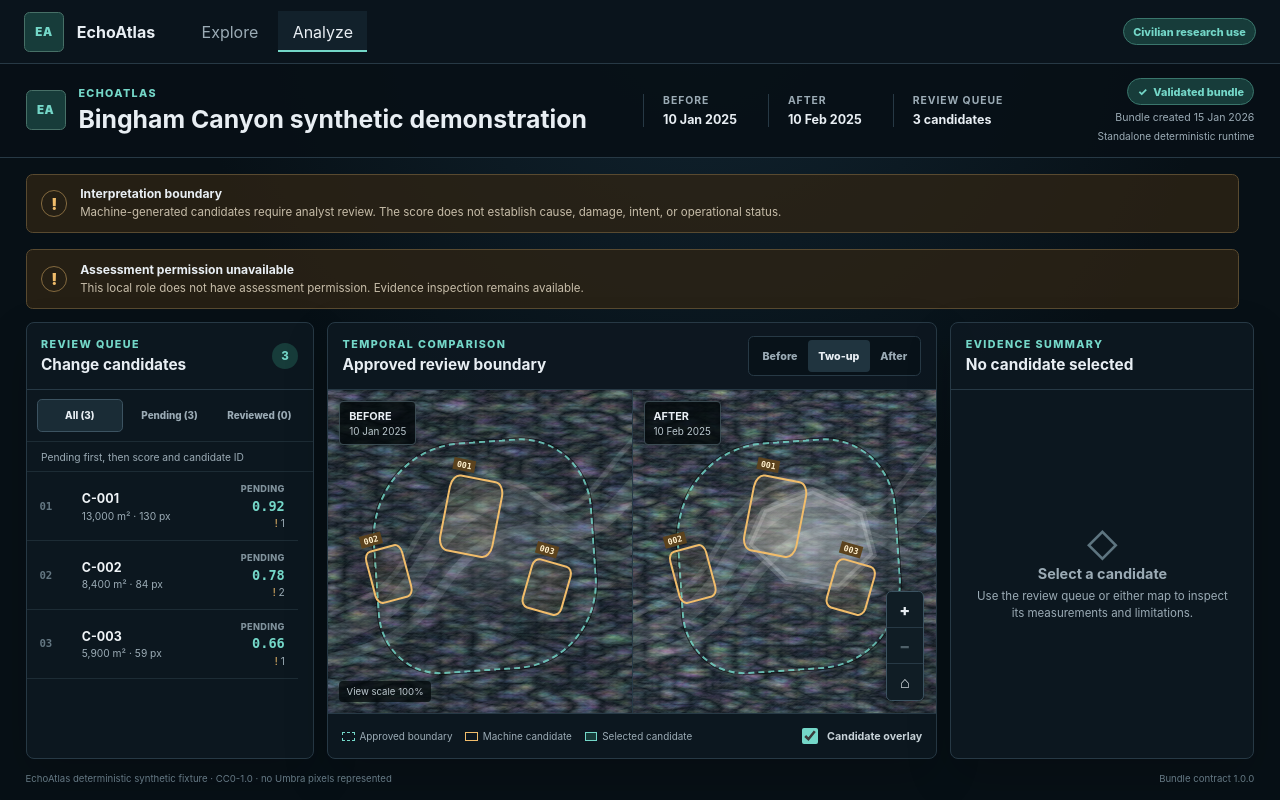
Test: App › preserves evidence inspection when assessment permission is denied
Click the button "01 C-001 13,000 m² · 130 px Pending 0.92 ! 1": [162, 507] box [27, 472, 298, 541]
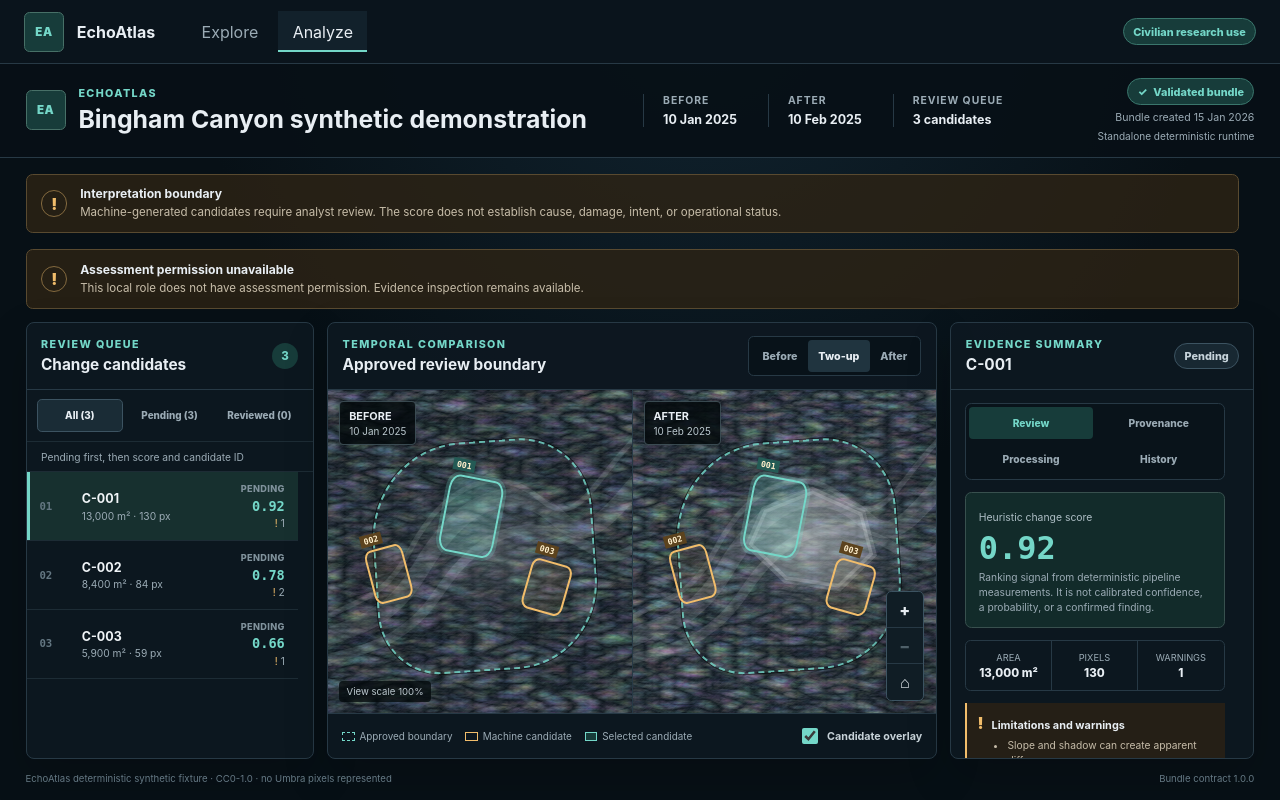
expect the heading "Assessment permission unavailable" is shown: met, box [80, 262, 294, 277]
expect the tab "Provenance" is enabled: met, box [1097, 408, 1221, 440]
